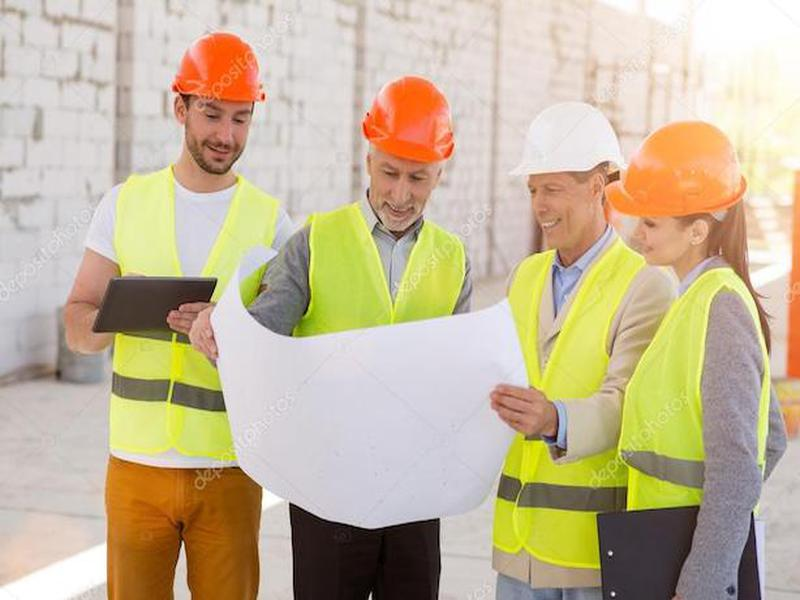hard-hat: (600, 116, 752, 219), (505, 100, 629, 181), (357, 74, 458, 166), (166, 30, 270, 107)
